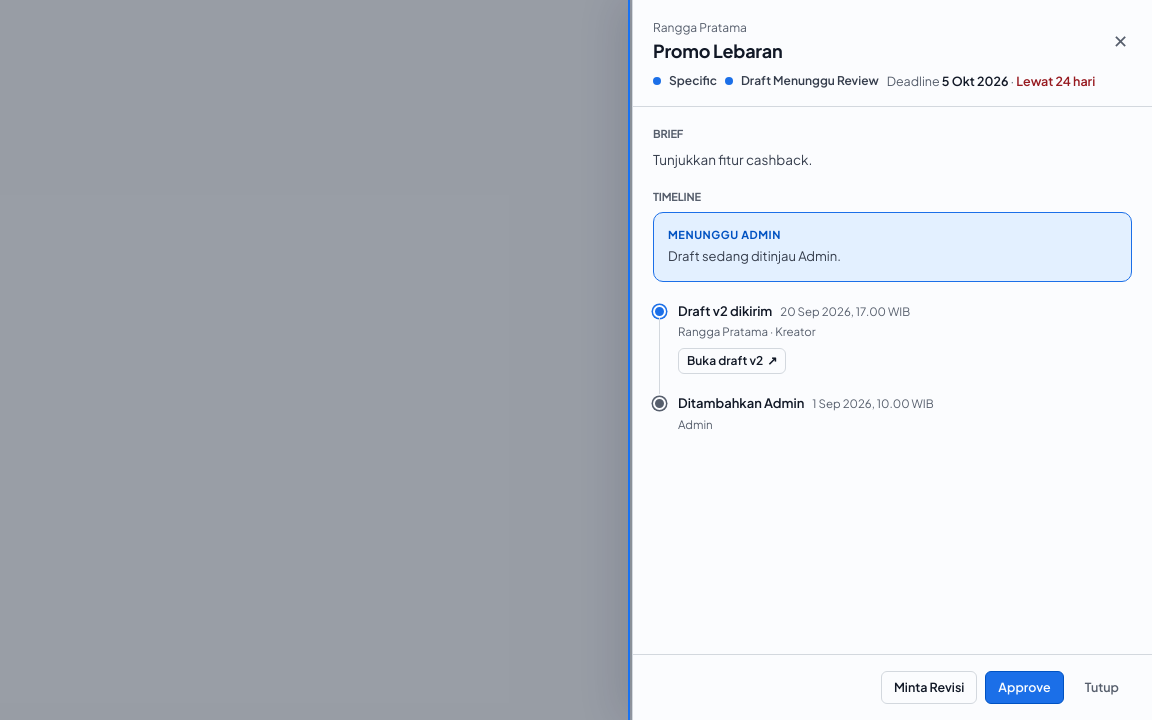
Test case: ContentDetailPanel › keeps the panel open and shows the reason when Approve is refused
The width and height of the screenshot is (1152, 720).
Click the button "Approve".
click(1025, 688)  # box [985,671,1064,704]
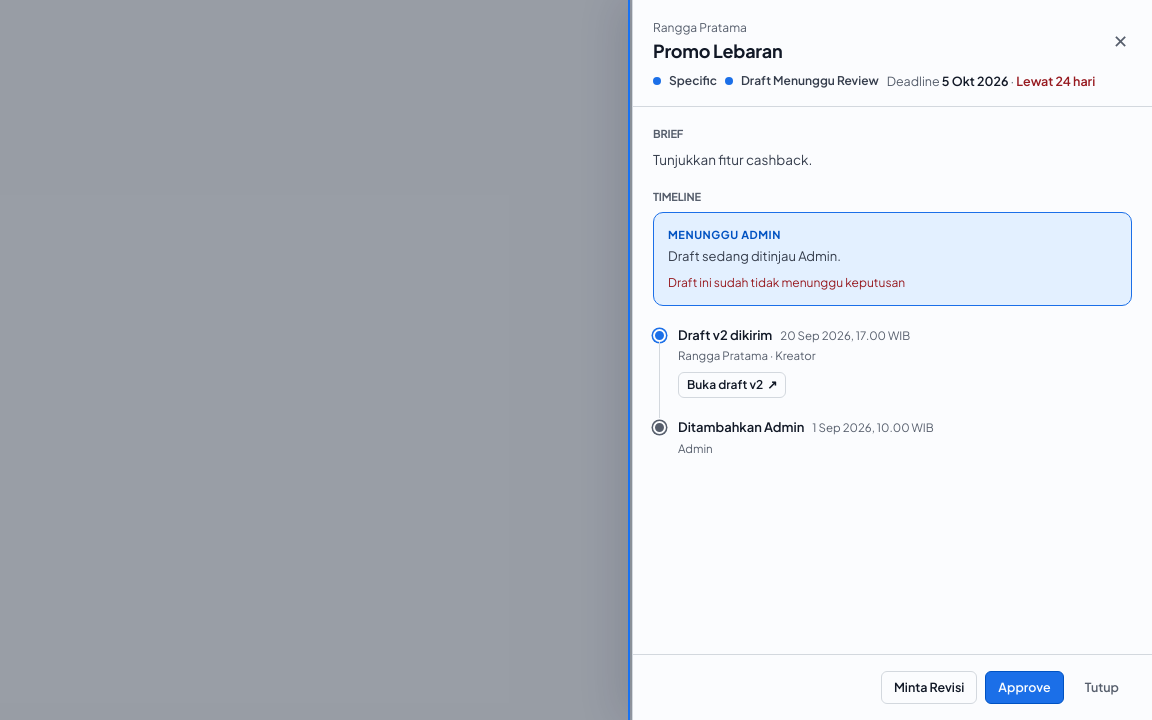
Now the text "Draft ini sudah tidak menunggu keputusan" is shown, box [668,275,905,290]
